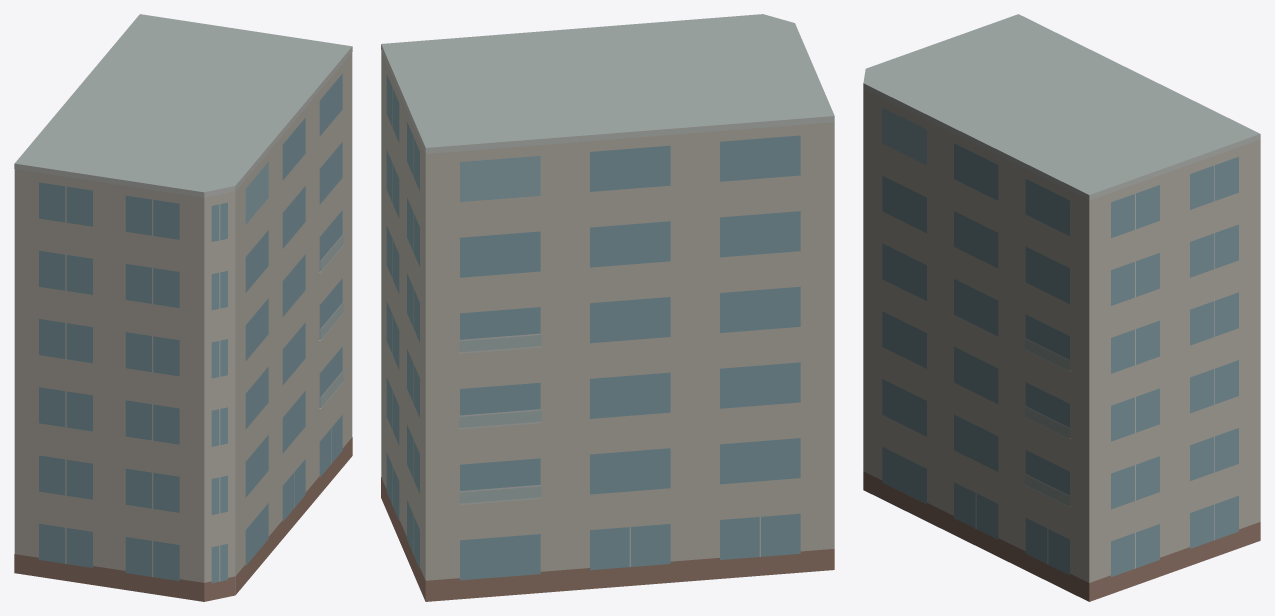
The model's file is survey-upis-32511181.glb.
The picture shows the model from 3 angles, left to right: view 1: azimuth 30°, elevation 25°; view 2: azimuth 150°, elevation 25°; view 3: azimuth 270°, elevation 25°; orthographic projection. The views are drawn at different scales.
Parts seen in each view (by area): view 1: survey-upis-32511181.tmp; view 2: survey-upis-32511181.tmp; view 3: survey-upis-32511181.tmp.
Part boxes in pixels (left/top/right/bottom): survey-upis-32511181.tmp: left=14, top=14, right=352, bottom=601; survey-upis-32511181.tmp: left=381, top=14, right=834, bottom=601; survey-upis-32511181.tmp: left=863, top=14, right=1260, bottom=601.
Size of the model in its own units: 17.48 by 18.3 by 16.2.
